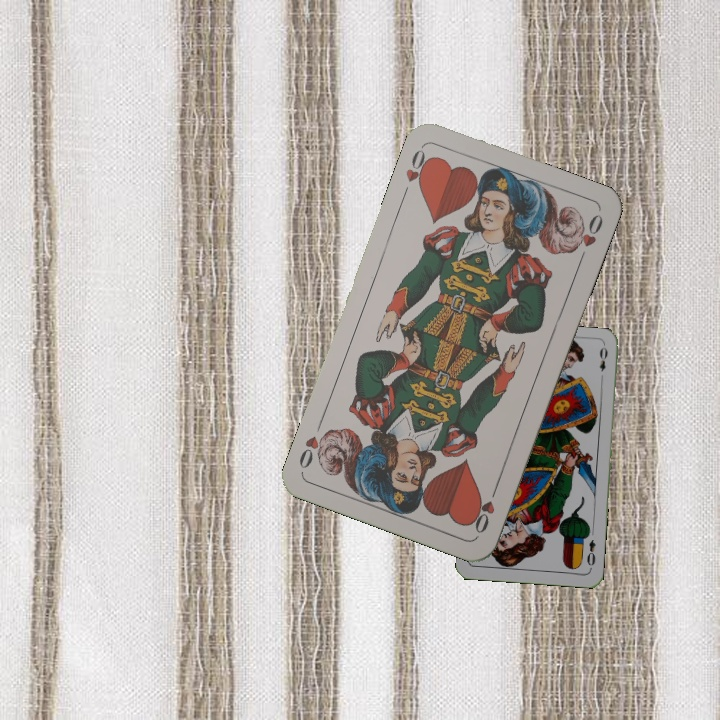EO: (583, 536, 598, 568)
HO: (398, 143, 435, 200), (468, 481, 501, 536)
